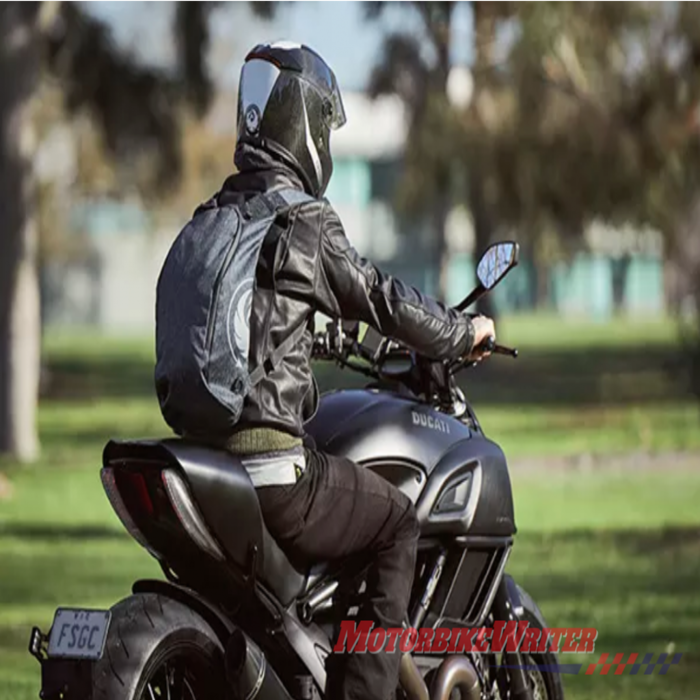h: (235, 29, 343, 217)
